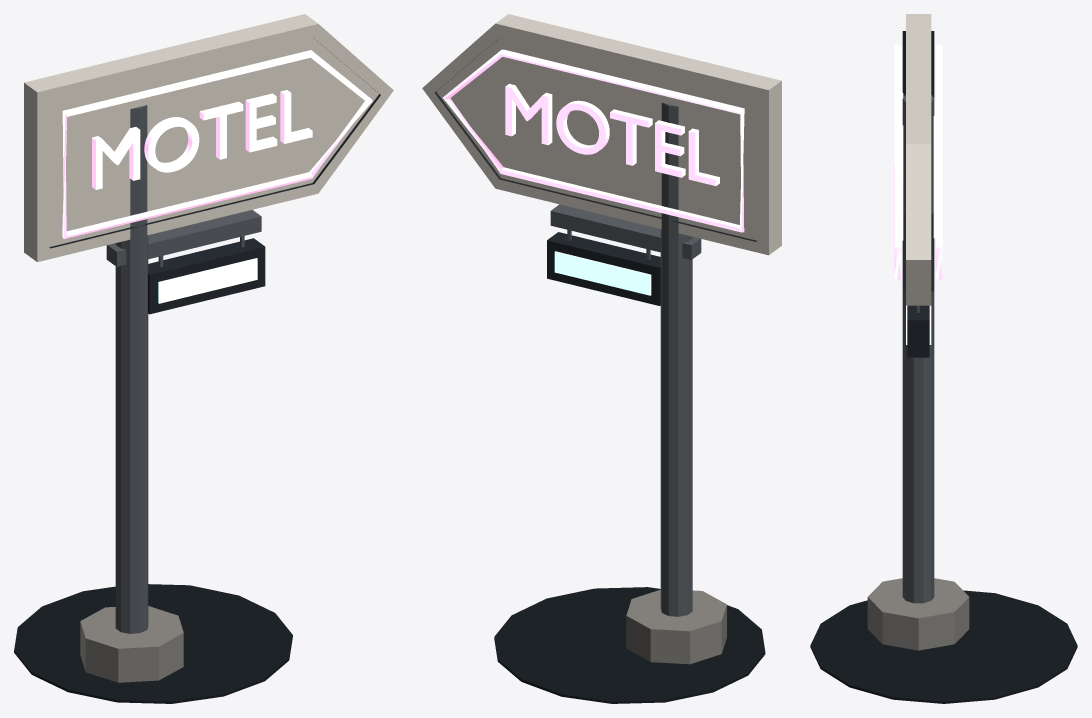
The model's file is low-tide-motel.glb.
3 renders of one model, left to right at view 1: azimuth 30°, elevation 25°; view 2: azimuth 150°, elevation 25°; view 3: azimuth 270°, elevation 25°, orthographic. The views are drawn at different scales.
Parts seen in each view (by area): view 1: BoardEdge, Puddle, Post, Text, Foot, NeonOutline, VacancyBox, VacancyLight, Board; view 2: BoardEdge, Puddle, Post, Text.001, Foot, NeonOutline, VacancyBox, VacancyLight, Board; view 3: Puddle, Post, BoardEdge, Foot, NeonOutline, VacancyBox, Board.
Boxes of the visible parts, x1,y1,x2,y2 form: BoardEdge: (24,14,393,261); Puddle: (14,584,292,703); Post: (106,105,261,633); Text: (92,90,312,189); Foot: (80,606,183,682); NeonOutline: (62,50,372,239); VacancyBox: (148,238,265,314); VacancyLight: (158,258,257,303); Board: (49,38,380,248); BoardEdge: (422,14,781,255); Puddle: (494,587,765,703); Post: (550,102,701,616); Text.001: (505,83,719,185); Foot: (626,589,726,664); NeonOutline: (442,49,744,232); VacancyBox: (547,232,661,305); VacancyLight: (554,251,651,295); Board: (435,38,756,241); Puddle: (810,590,1077,703); Post: (902,94,934,603); BoardEdge: (906,14,931,305); Foot: (867,578,969,650); NeonOutline: (894,44,942,280); VacancyBox: (907,305,929,357); Board: (902,31,934,291).
Bounding box in the file's own units: 1.23 × 1.98 × 0.84.
